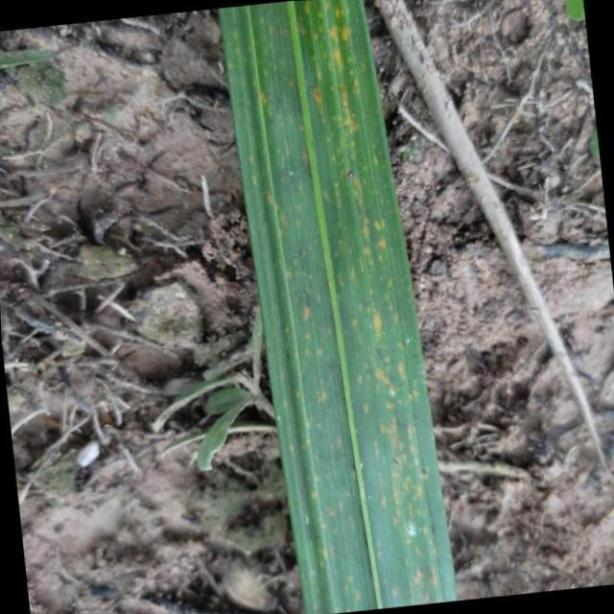Kalium: (217, 3, 456, 614)
